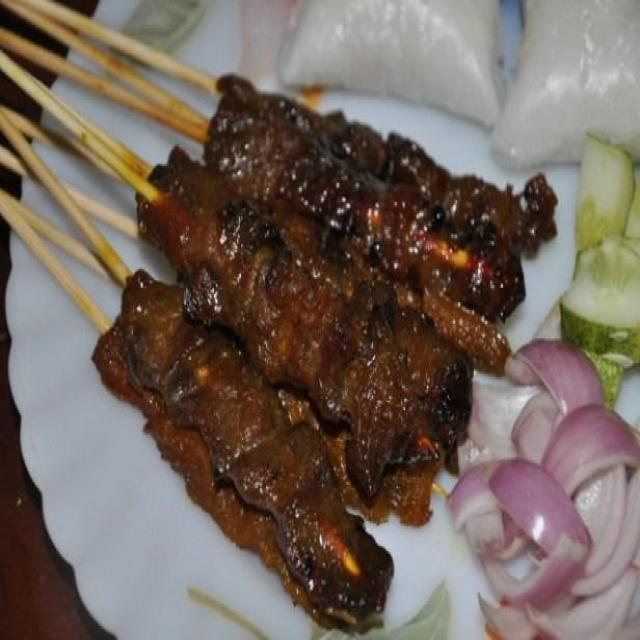Sate: (30, 9, 475, 616)
